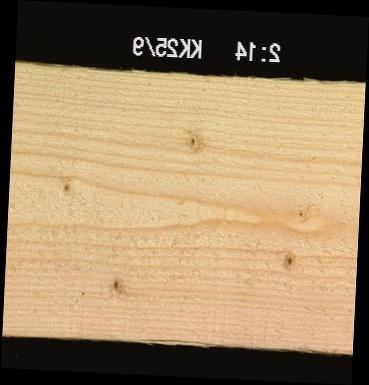small_knot: (108, 269, 129, 296), (185, 130, 203, 153), (280, 247, 298, 270), (292, 203, 309, 220), (59, 177, 74, 196)
